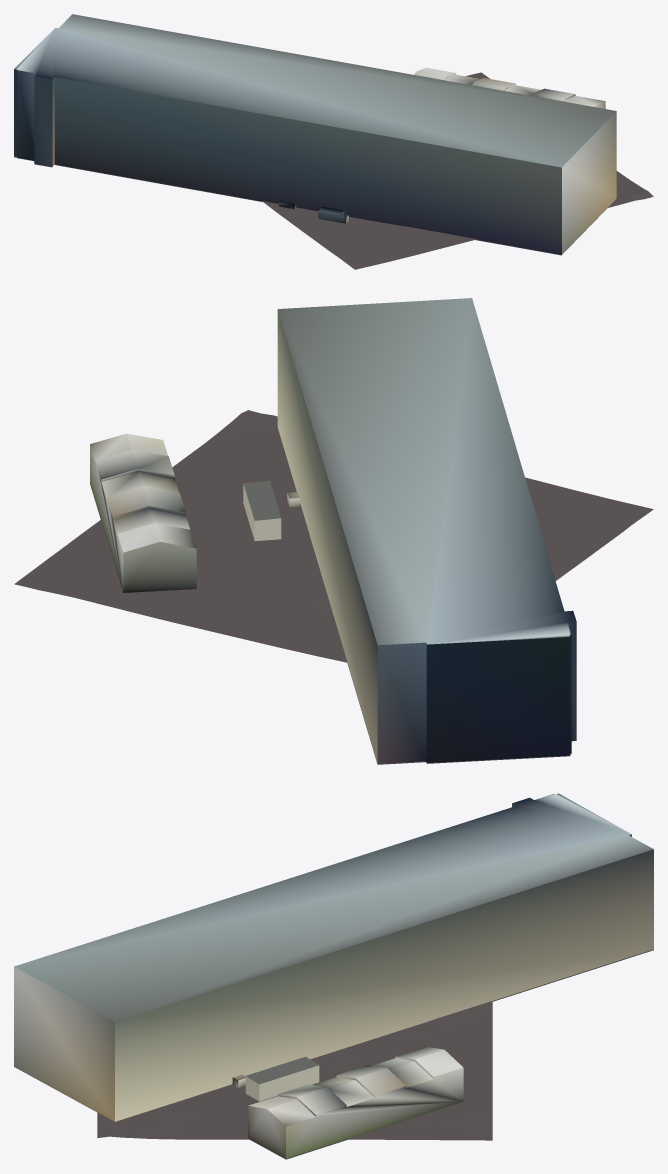
The picture shows the model from 3 angles, top to bottom: view 1: azimuth 30°, elevation 25°; view 2: azimuth 150°, elevation 25°; view 3: azimuth 270°, elevation 25°; orthographic projection. The views are drawn at different scales.
Visible parts, largest first — view 1: c_m11_p11; view 2: c_m11_p11; view 3: c_m11_p11.
Part boxes in pixels (box(x1,y1,x2,y2)): c_m11_p11: box(14, 14, 653, 269); c_m11_p11: box(14, 298, 653, 764); c_m11_p11: box(14, 793, 653, 1159).
Size of the model in its own units: 202 by 36.54 by 207.
